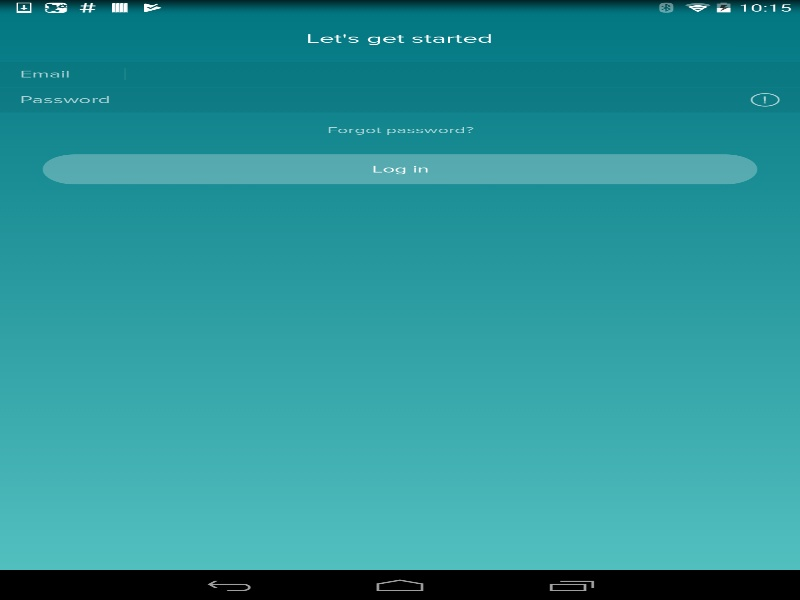Button: (42, 154, 757, 184)
Input: (124, 93, 780, 106), (124, 68, 780, 80)
